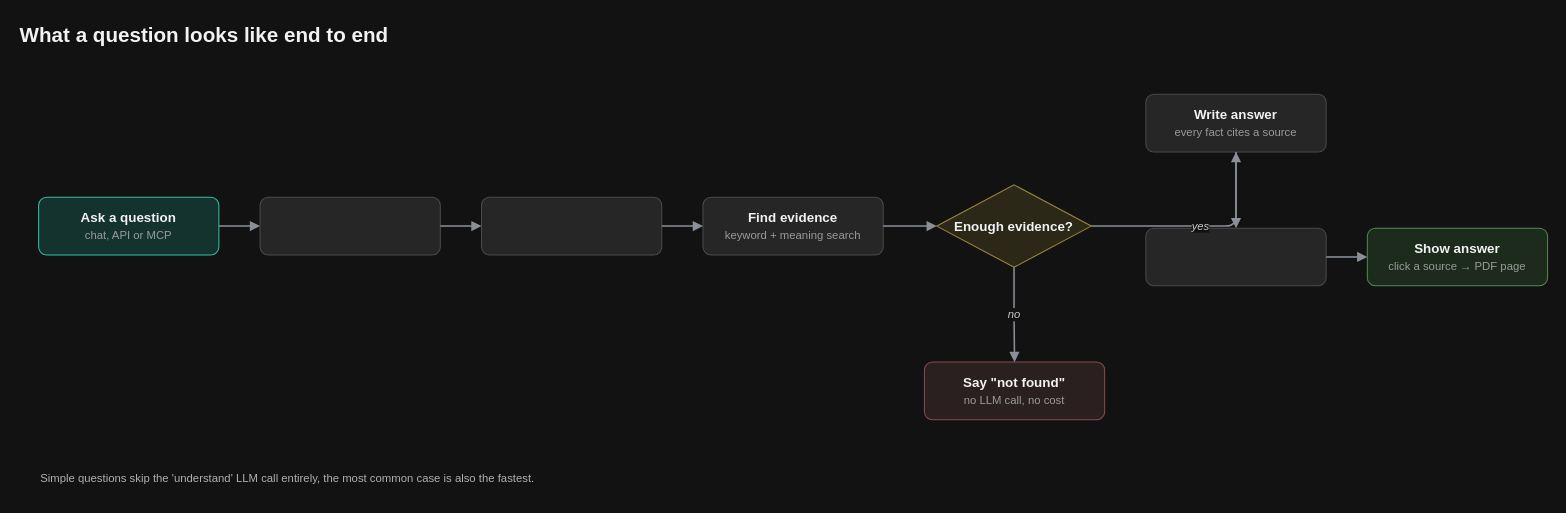
This 1566x513 diagram has some shape labels left out. The centre of each missing label's shape, as x and y in pixels:
"Check citations flag weak claims" goes at (1235,256).
"Recall context recent turns + user facts" goes at (349,225).
"Understand question rewrite, pick strategy" goes at (571,225).
